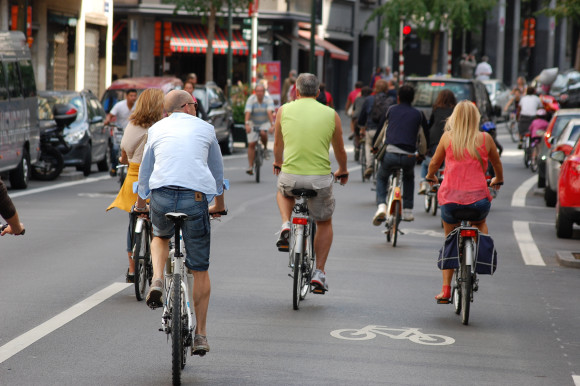commuter: (142, 88, 233, 386), (269, 73, 352, 314), (424, 101, 505, 326), (372, 85, 424, 249)
